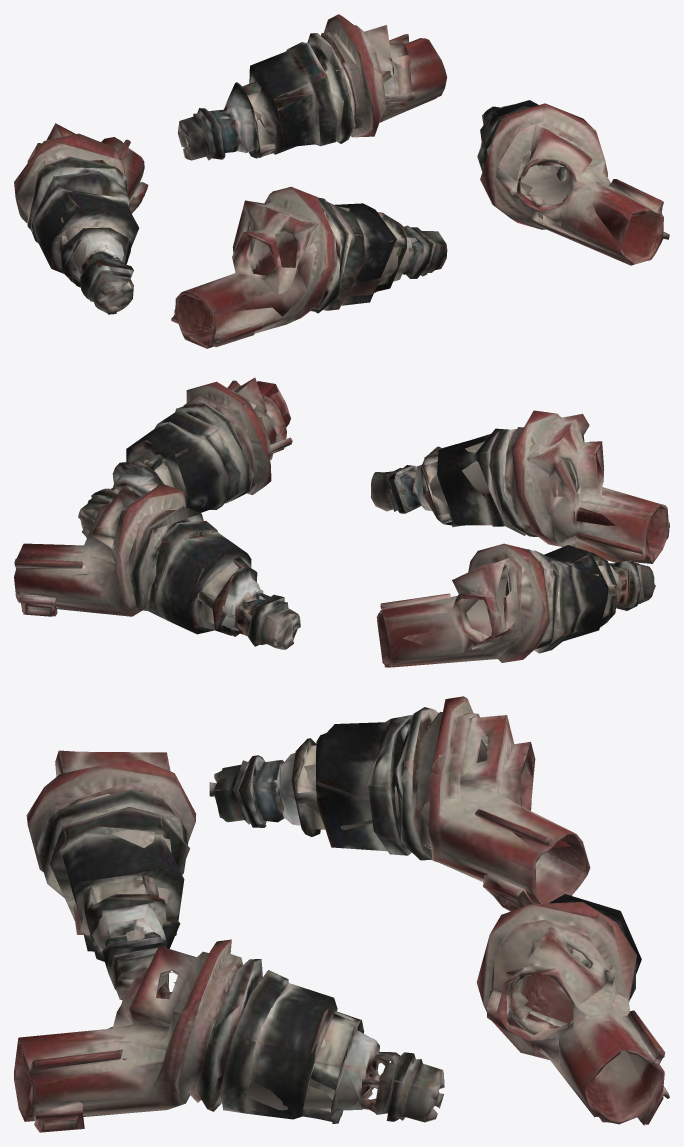
File: inj.glb
3 renders of one model, top to bottom at view 1: azimuth 30°, elevation 25°; view 2: azimuth 150°, elevation 25°; view 3: azimuth 270°, elevation 25°, orthographic. The views are drawn at different scales.
Visible parts, largest first — view 1: inj; view 2: inj; view 3: inj.
Boxes of the visible parts, bbox=[...] form: inj: bbox=[14, 14, 669, 348]; inj: bbox=[14, 377, 669, 667]; inj: bbox=[14, 696, 669, 1132].
Bounding box in the file's own units: 0.3 × 0.0713 × 0.256.
1 material, 1 textured.
